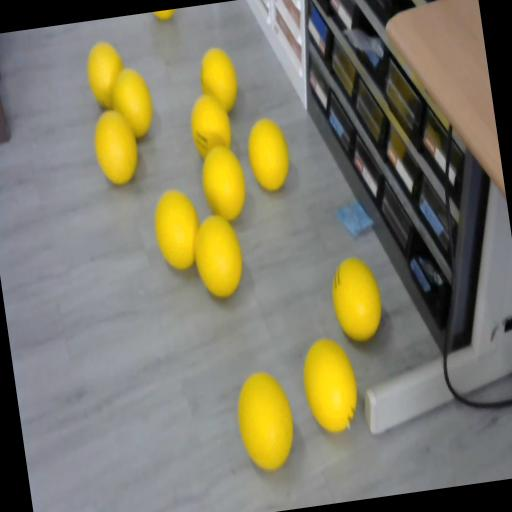FUEL: (231, 366, 299, 472), (296, 333, 362, 436), (188, 210, 248, 300), (328, 253, 386, 344), (150, 186, 205, 272), (197, 142, 250, 224), (90, 106, 142, 188), (244, 116, 294, 194), (83, 38, 129, 112), (196, 44, 242, 114), (152, 9, 178, 22)
